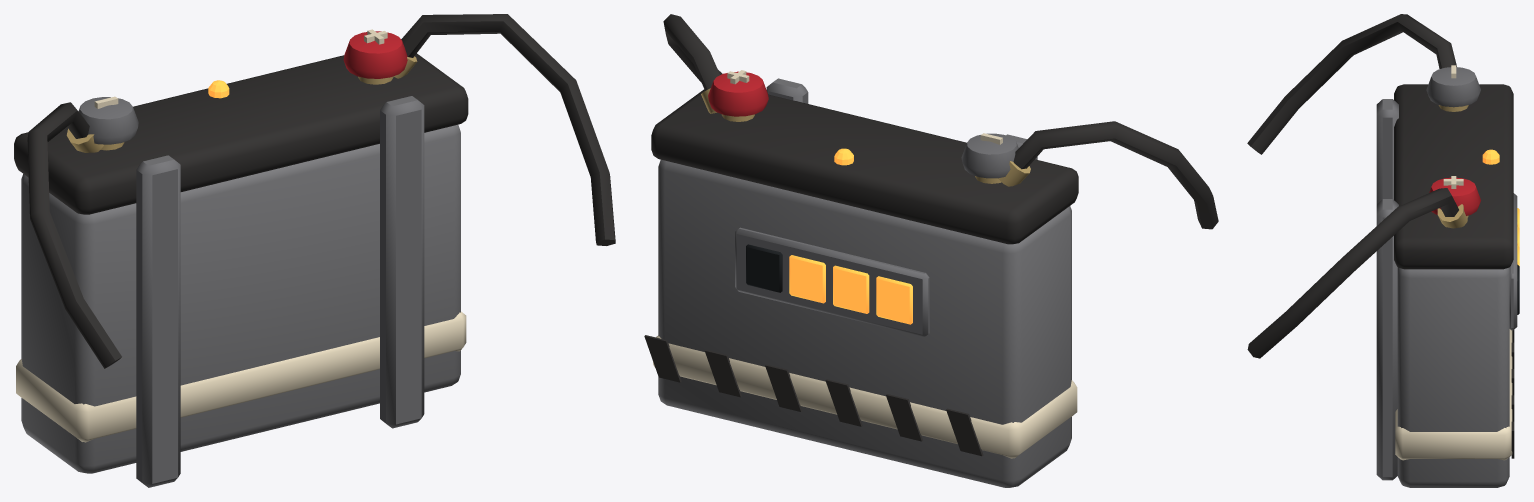
Rendered from Kit_Mod_Battery.glb.
3 views of the same model, side by side, from view 1: azimuth 30°, elevation 25°; view 2: azimuth 150°, elevation 25°; view 3: azimuth 270°, elevation 25° (orthographic). The views are drawn at different scales.
Visible parts, largest first — view 1: Kit_Mod_Battery; view 2: Kit_Mod_Battery; view 3: Kit_Mod_Battery.
Part boxes in pixels (left/top/right/bottom): Kit_Mod_Battery: left=14, top=14, right=615, bottom=487; Kit_Mod_Battery: left=644, top=14, right=1218, bottom=487; Kit_Mod_Battery: left=1247, top=14, right=1519, bottom=487.
Bounding box in the file's own units: 0.4265 × 0.2791 × 0.2188.
